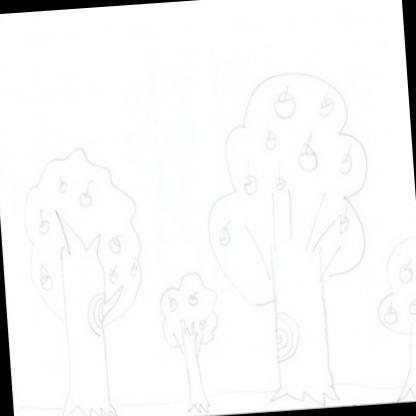apple: (272, 85, 298, 119), (298, 132, 318, 174), (241, 156, 260, 199), (336, 141, 353, 176), (78, 178, 96, 210), (396, 258, 414, 284), (318, 92, 336, 116), (218, 220, 233, 248), (36, 208, 50, 236), (38, 267, 54, 291), (384, 302, 399, 327), (264, 127, 278, 153), (109, 235, 124, 256), (56, 173, 70, 194), (110, 264, 120, 286), (190, 289, 200, 308), (409, 294, 416, 317), (168, 296, 178, 312)
branch_cut: (180, 320, 199, 340)
branch_line: (243, 188, 343, 275)
branch_sharp: (53, 208, 104, 274)
crown_cloud: (198, 71, 376, 309), (19, 145, 145, 334), (159, 272, 221, 346), (372, 237, 416, 337)
knot: (273, 312, 302, 364), (84, 292, 108, 336)
root_upside: (268, 376, 341, 410), (58, 396, 120, 416), (186, 387, 212, 414), (395, 371, 416, 399)
trunk_straight: (272, 307, 332, 376), (64, 336, 112, 396), (184, 363, 204, 387), (405, 342, 416, 380)
